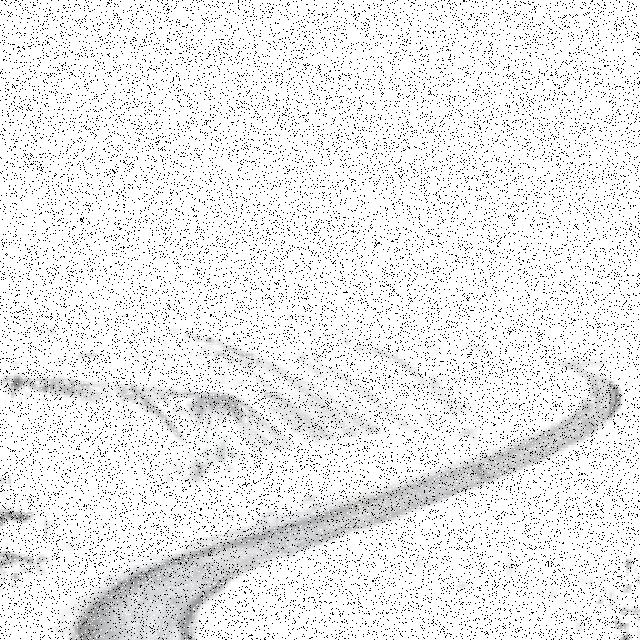ice-road: (84, 357, 609, 640)
